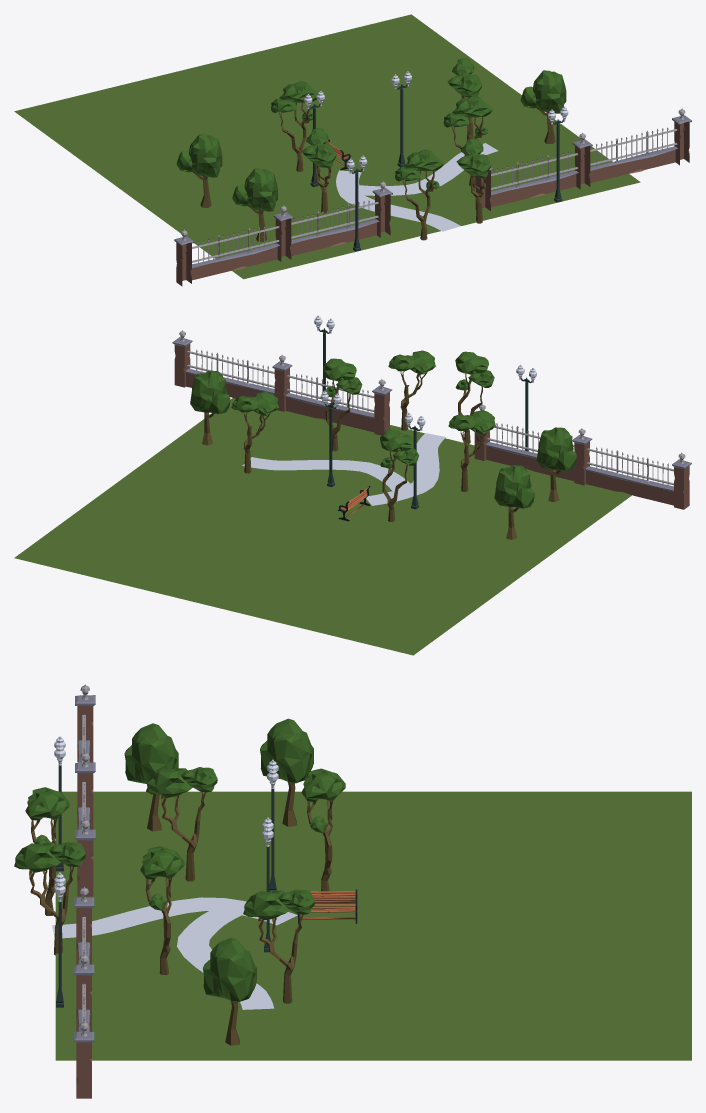
3 views of the same model, one above another, from view 1: azimuth 30°, elevation 25°; view 2: azimuth 150°, elevation 25°; view 3: azimuth 270°, elevation 25° (orthographic). The views are drawn at different scales.
Visible parts, largest first — view 1: Ground_1, SM_Env_Fence_006, SM_Env_Fence_004, SM_Env_Fence_005, SM_Env_Fence_003, SM_Env_Tree_008, SM_Env_Tree_3, SM_Env_Tree_006, SM_Env_Tree_2, Ground_Line2, SM_Env_Tree_004, Ground_Line1 (+12 smaller); view 2: Ground_1, SM_Env_Fence_005, SM_Env_Fence_003, SM_Env_Fence_006, Ground_Line2, Ground_Line1, SM_Env_Fence_004, SM_Env_Tree_008, SM_Env_Tree_3, SM_Env_Tree_006, SM_Env_Tree_004, SM_Env_Tree_010 (+10 smaller); view 3: Ground_1, SM_Env_Tree_006, SM_Env_Tree_008, Ground_Line2, SM_Env_Tree_3, SM_Env_Tree_1, SM_Env_Tree_005, SM_Env_Tree_007, Ground_Line1, SM_Env_Tree_010, SM_Env_Tree_004, SM_Env_Tree_2 (+9 smaller).
Part boxes in pixels (x1,y1,x2,y2): Ground_1: (14,14,640,279); SM_Env_Fence_006: (290,201,379,255); SM_Env_Fence_004: (589,127,677,182); SM_Env_Fence_005: (191,225,279,280); SM_Env_Fence_003: (490,152,578,207); SM_Env_Tree_008: (176,134,222,207); SM_Env_Tree_3: (232,168,277,241); SM_Env_Tree_006: (520,70,566,143); SM_Env_Tree_2: (395,149,443,240); Ground_Line2: (336,170,460,231); SM_Env_Tree_004: (271,81,318,171); Ground_Line1: (354,143,498,195); Ground_1: (14,398,631,655); SM_Env_Fence_005: (585,447,673,505); SM_Env_Fence_003: (285,374,374,432); SM_Env_Fence_006: (485,423,574,480); Ground_Line2: (366,433,445,505); Ground_Line1: (242,457,410,491); SM_Env_Fence_004: (185,349,274,398); SM_Env_Tree_008: (494,465,534,539); SM_Env_Tree_3: (536,427,576,502); SM_Env_Tree_006: (190,370,230,445); SM_Env_Tree_004: (380,429,418,521); SM_Env_Tree_010: (323,358,362,451); Ground_1: (55,791,691,1060); SM_Env_Tree_006: (203,937,256,1045); SM_Env_Tree_008: (260,718,313,826); Ground_Line2: (52,897,297,938); SM_Env_Tree_3: (124,723,178,831); SM_Env_Tree_1: (146,767,217,881); SM_Env_Tree_005: (243,889,314,1003); SM_Env_Tree_007: (14,841,85,955); Ground_Line1: (177,910,274,1009); SM_Env_Tree_010: (140,846,184,974); SM_Env_Tree_004: (301,768,345,894); SM_Env_Tree_2: (25,787,69,915).
Size of the model in its own units: 1283 by 226 by 1065.
